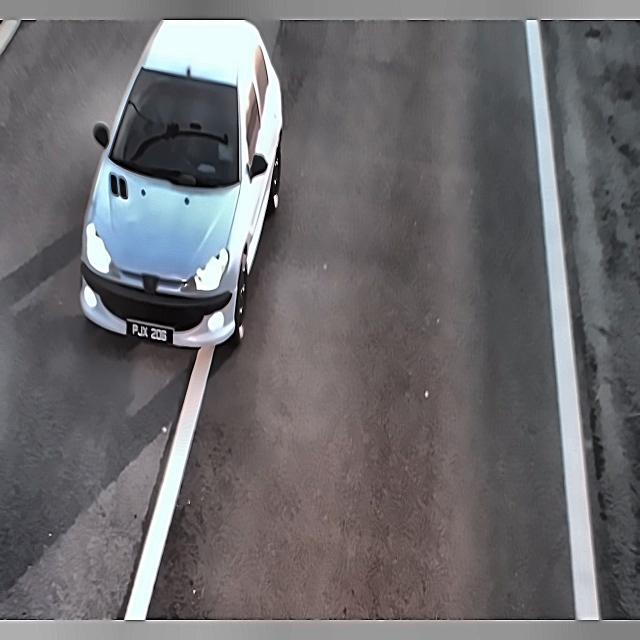car: (119, 317, 178, 351)
